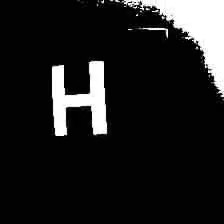LTR_H: (42, 54, 114, 141)
